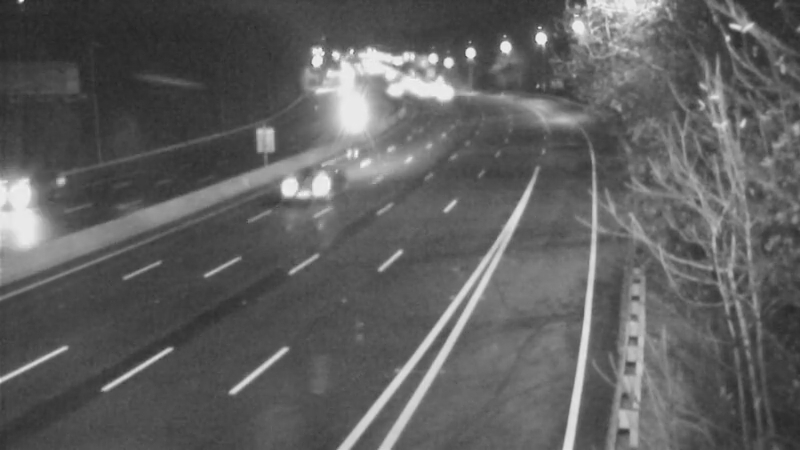vehicle: (262, 148, 342, 228), (1, 159, 68, 239), (420, 68, 470, 118), (328, 92, 378, 142)
